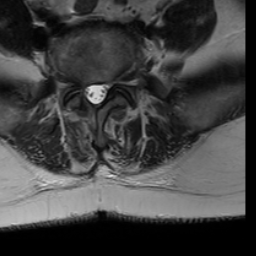CCS_normal: (90, 77, 102, 111)
LFS_stenosis: (109, 71, 119, 94)
LLS_normal: (100, 75, 110, 104)
RFS_severe_stenosis: (73, 74, 83, 98)
RLS_normal: (82, 78, 92, 109)
